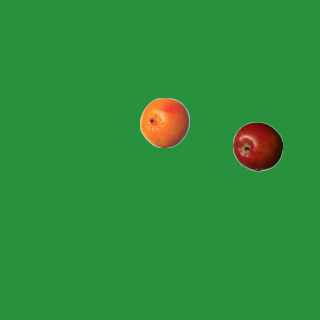Apple Braeburn: (232, 121, 282, 171)
Grapefruit Pink: (139, 97, 189, 147)
